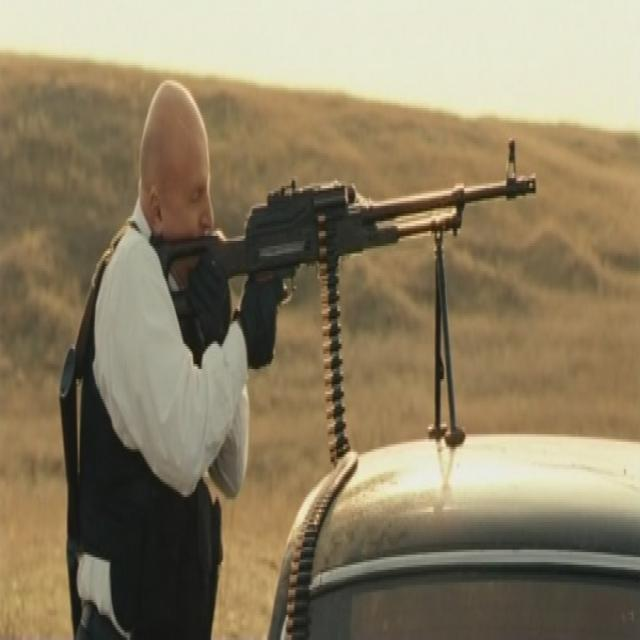rifle: (150, 136, 544, 477)
